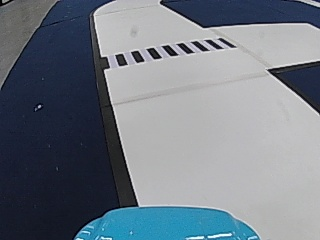CrossWalk: (104, 36, 231, 66)
